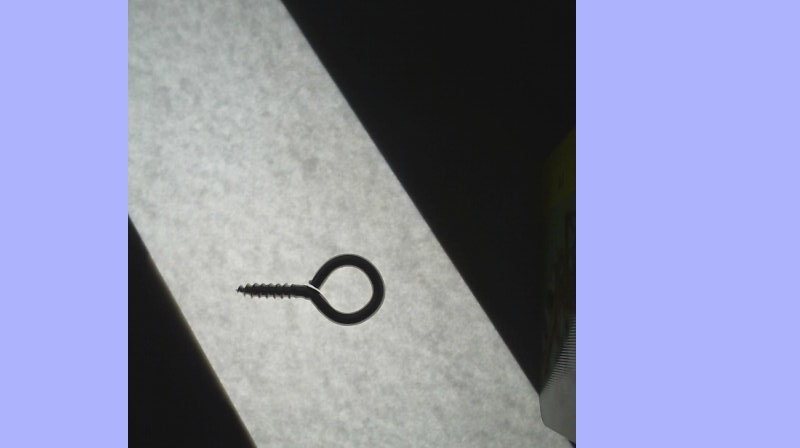O001: (232, 249, 388, 331)
